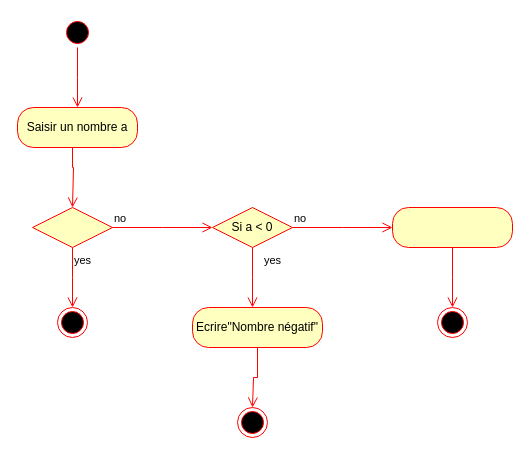
Some shapes in this 530 by 455 pixel diagram are drawn without their labels. Each missing label, with the centre of its shape:
Ecrire"Nombre positif: [452,227]
Si a = 0: [72,227]
